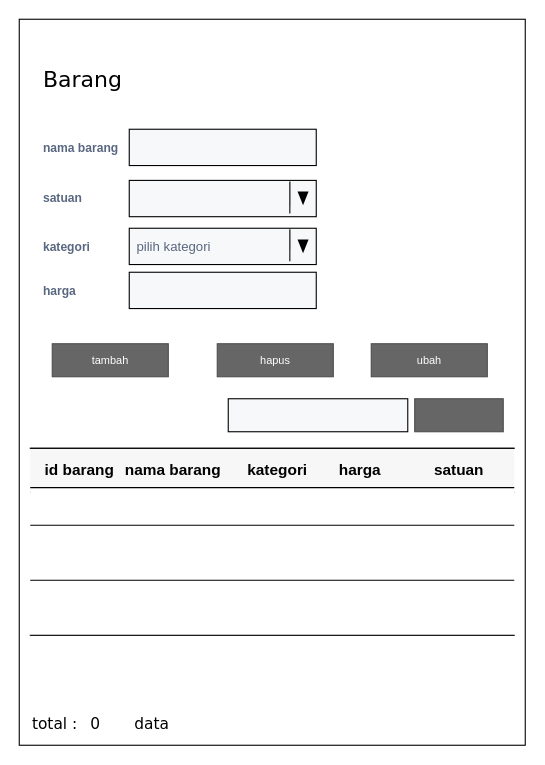
This 545x765 diagram has some shape labels left out. The shapes that lost their labels are listed below. From the top down, each one's centre as x and y in pixels, then its label:
At (222,198): "pilih satuan".
At (458,415): "cari".
